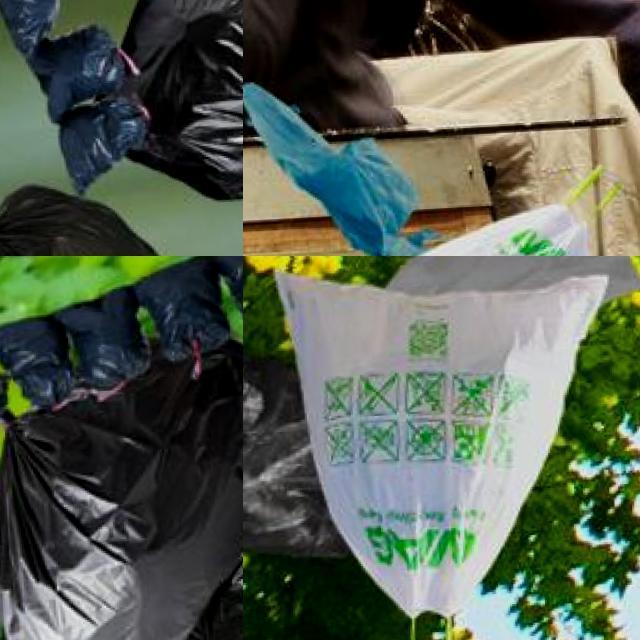waste: (273, 256, 626, 622), (0, 356, 243, 640), (108, 0, 243, 200), (119, 446, 243, 640), (243, 326, 320, 571), (0, 176, 216, 256), (142, 260, 230, 366), (59, 290, 148, 394), (0, 319, 72, 413), (0, 0, 67, 48)
